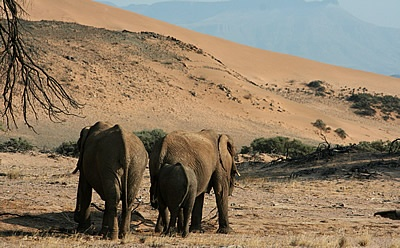elephant: (70, 121, 148, 240), (148, 131, 239, 232), (153, 160, 197, 237)
